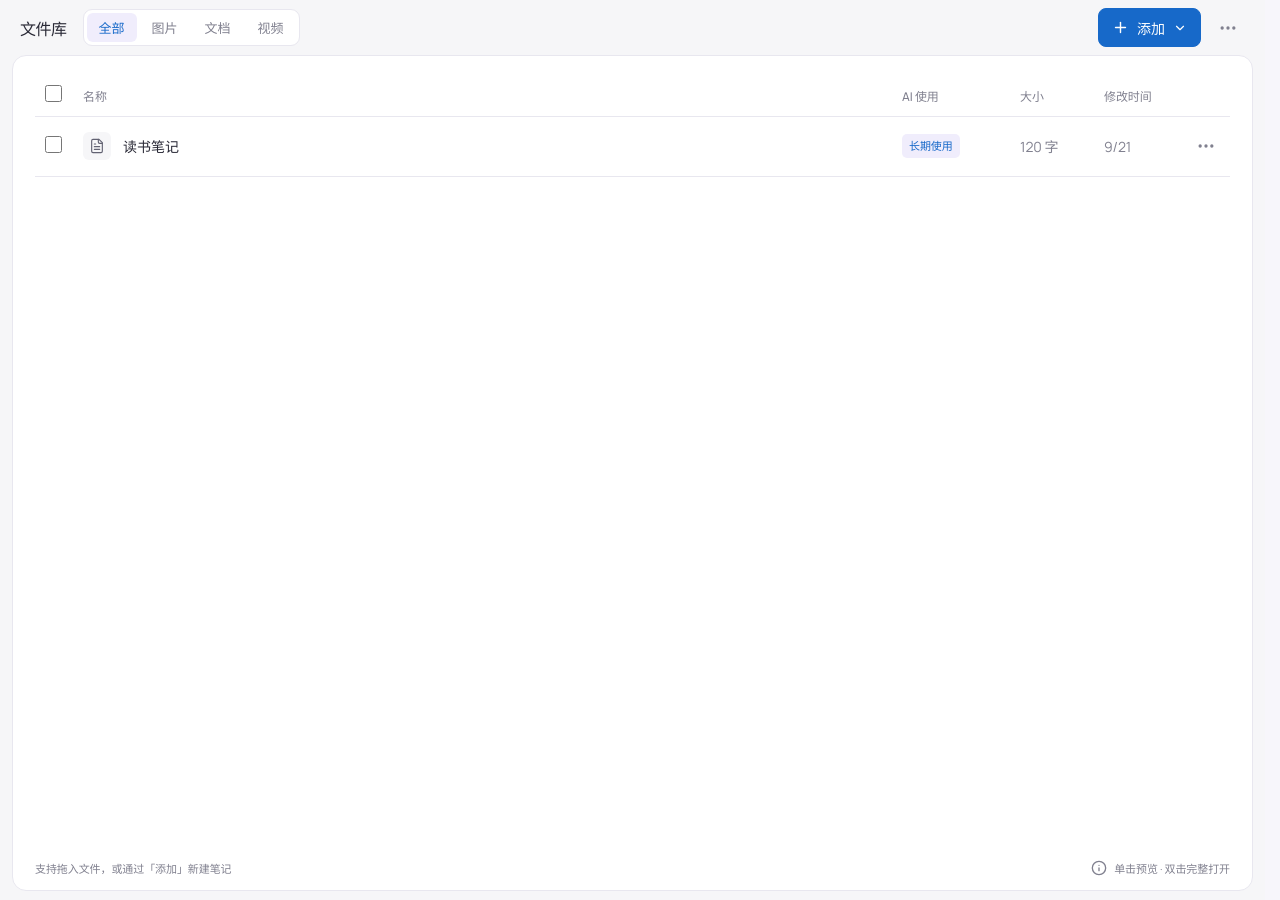
Test: file library › keeps checkbox and file actions separate from reading and exposes batch actions directly
Click the button named "文件库更多选项" at (1228, 28), box x1=1211 y1=10 x2=1245 y2=44
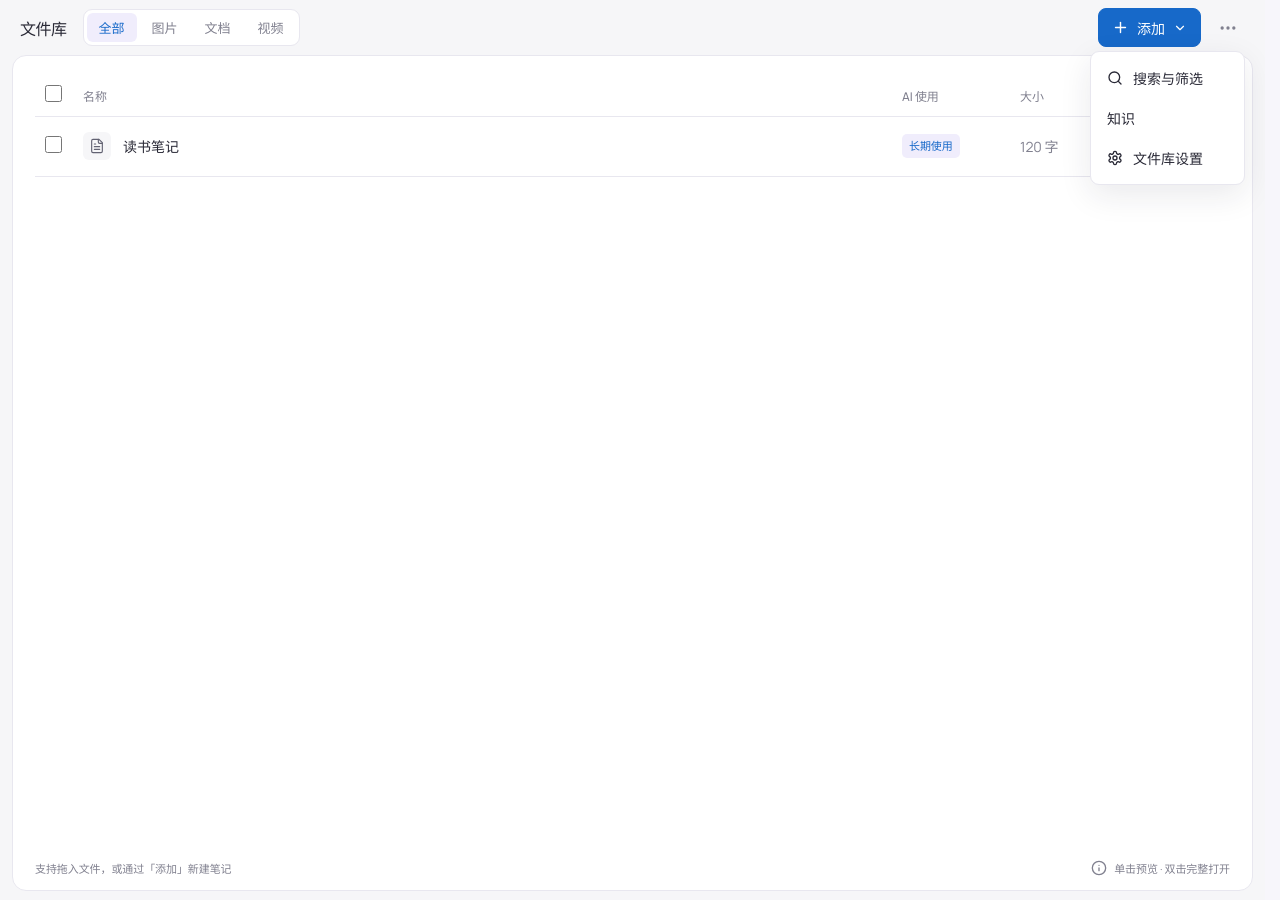
Click the button "搜索与筛选" at (1168, 78), box x1=1097 y1=58 x2=1238 y2=98
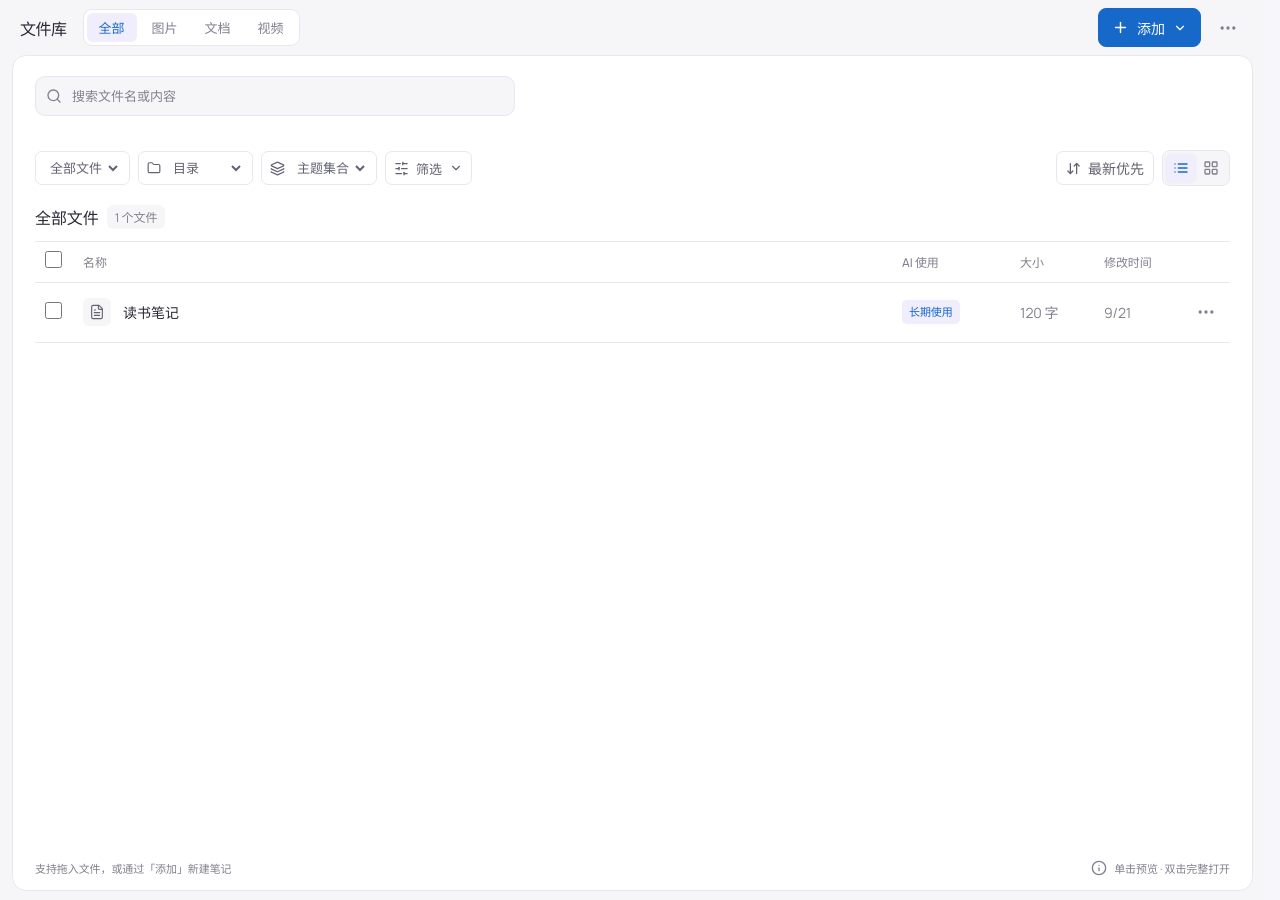
Click the checkbox named "选择 读书笔记" at (54, 310), box x1=45 y1=302 x2=62 y2=318
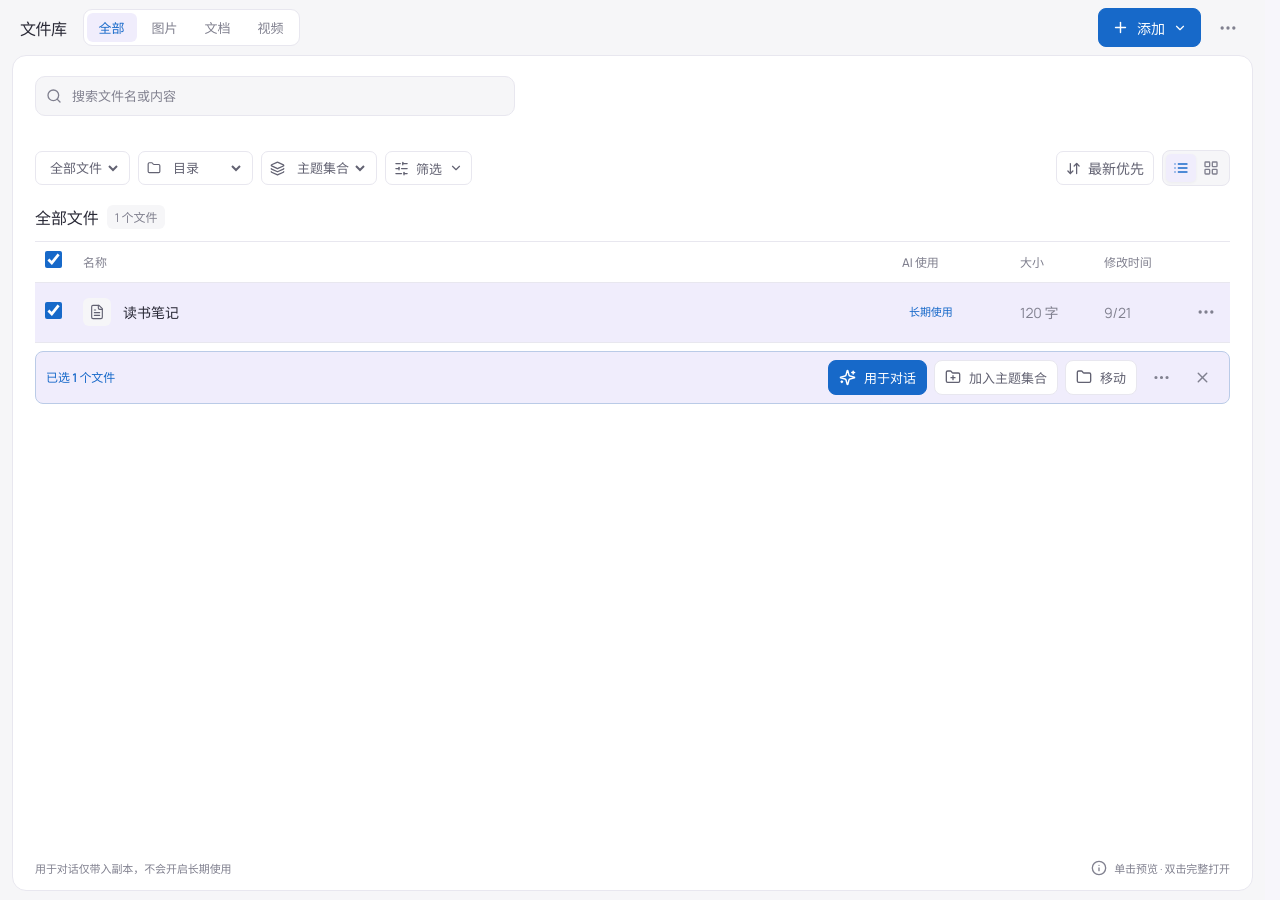
Double-click the checkbox named "选择 读书笔记" at (54, 310), box x1=45 y1=302 x2=62 y2=318
Result: the button "加入主题集合" is shown at x1=934 y1=360 x2=1058 y2=394
Result: the button "移动" is shown at x1=1065 y1=360 x2=1137 y2=394
Click the button named "操作 读书笔记" at (1206, 312), box x1=1189 y1=295 x2=1223 y2=329
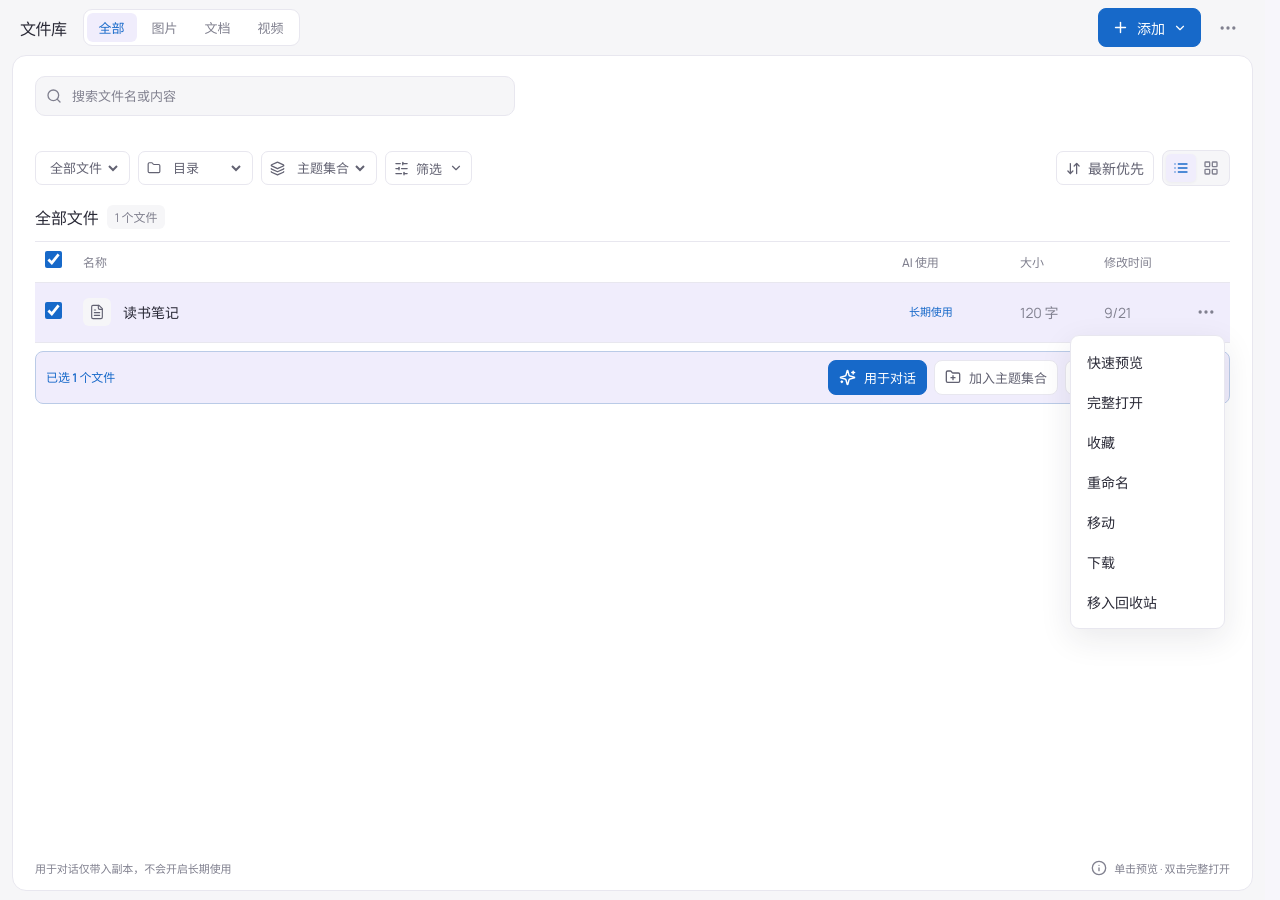
Result: the button "快速预览" is shown at x1=1077 y1=342 x2=1218 y2=382
